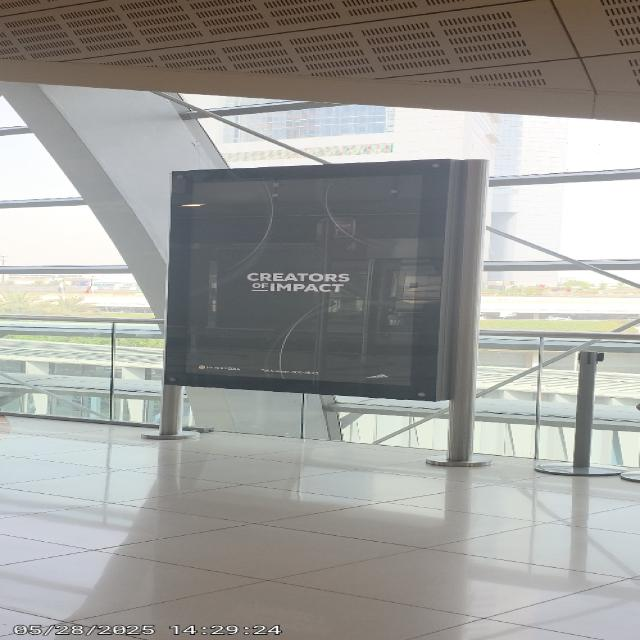mupi: (163, 162, 454, 399)
